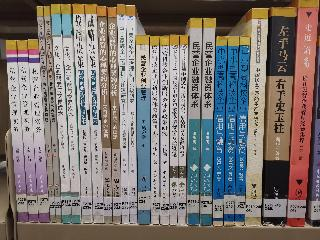book-spine: (284, 0, 319, 227), (261, 9, 297, 227), (244, 7, 271, 227), (49, 3, 73, 224), (4, 39, 29, 223), (15, 39, 40, 223), (61, 4, 82, 223), (71, 4, 92, 223), (35, 6, 56, 223), (42, 6, 63, 223), (27, 37, 51, 222), (85, 3, 104, 224), (198, 18, 217, 228), (210, 36, 229, 227), (96, 7, 112, 225), (106, 6, 122, 224), (233, 35, 251, 227), (222, 36, 240, 226), (187, 18, 203, 226), (116, 6, 130, 224), (135, 35, 151, 224), (147, 35, 161, 224), (157, 37, 171, 226), (125, 5, 137, 224), (168, 34, 180, 226), (178, 35, 188, 226)
